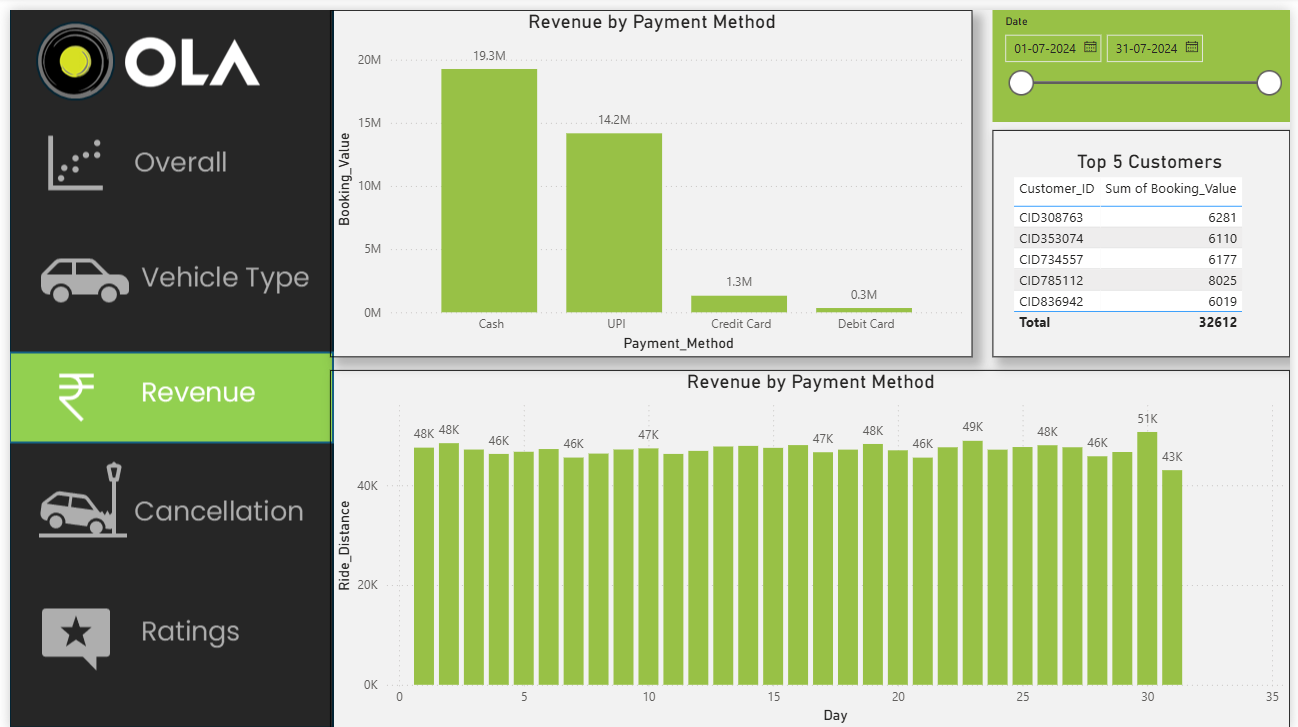

Layout of this report page (visuals, bound fields, positions):
{"tool":"powerbi","page":{"name":"Revenue","canvas":[1280,720],"ordinal":2},"visuals":[{"type":"actionButton","box":[0,111,319.7,94.1],"z":0},{"type":"actionButton","box":[0,219.6,319.7,94.1],"z":1},{"type":"actionButton","box":[0,451.2,319.7,94.1],"z":2},{"type":"actionButton","box":[0,574.3,319.7,94.1],"z":3},{"type":"columnChart","title":"Revenue by Payment Method","fields":{"Y":["Sum(Bookings.Booking_Value)"],"Category":["Bookings.Payment_Method"]},"box":[320,0,642.5,347.5],"z":4},{"type":"columnChart","title":"Revenue by Payment Method","fields":{"Y":["Sum(Bookings.Ride_Distance)"],"Category":["Bookings.Date.Variation.Date Hierarchy.Day"]},"box":[320,360,960,360],"z":5},{"type":"slicer","fields":{"Values":["Bookings.Date"]},"box":[982.5,0,297.5,111.2],"z":6},{"type":"tableEx","title":"Top 5 Customers","fields":{"Values":["Bookings.Customer_ID","Sum(Bookings.Booking_Value)"]},"box":[982.5,120,297.5,227.5],"z":7}]}

Visuals, with their boxes in screenshot pixels (x1, y1, x2, y2), scaled from the page's 1280x720 canvas onto the 1298x727 screenshot:
actionButton: l=0, t=112, r=324, b=207
actionButton: l=0, t=222, r=324, b=317
actionButton: l=0, t=456, r=324, b=551
actionButton: l=0, t=580, r=324, b=675
"Revenue by Payment Method" columnChart: l=324, t=0, r=976, b=351
"Revenue by Payment Method" columnChart: l=324, t=364, r=1297, b=726
slicer - Bookings.Date: l=996, t=0, r=1297, b=112
"Top 5 Customers" tableEx: l=996, t=121, r=1297, b=351
